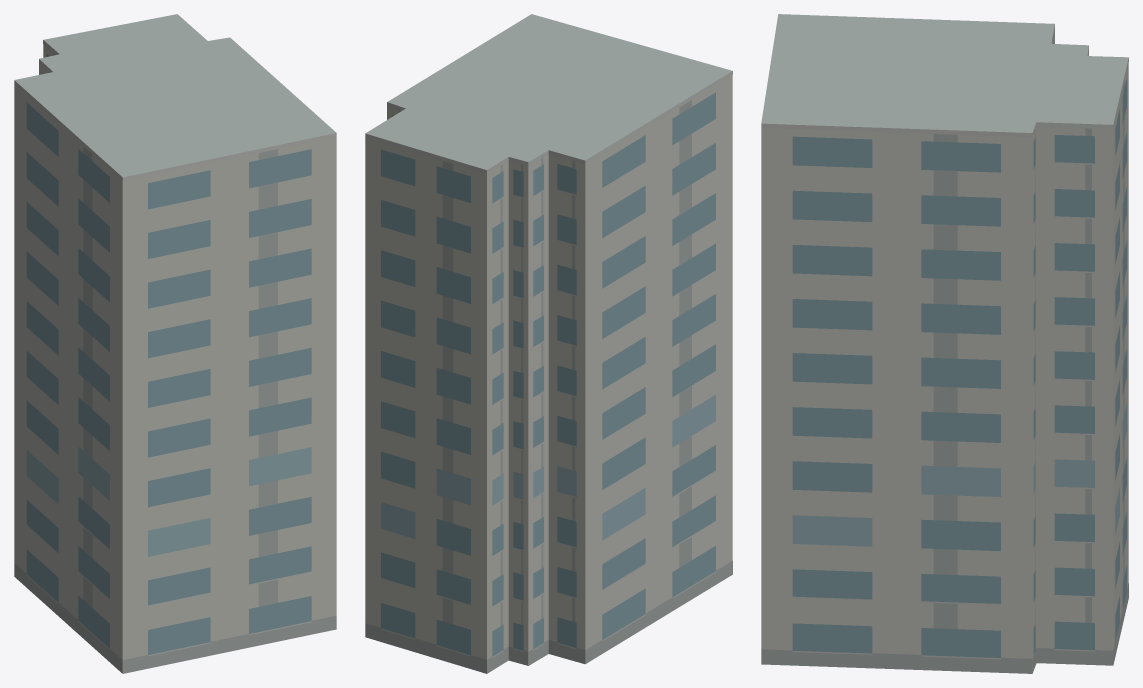
The model's file is residential-3093b765-9f2d-46da-a5c5-51ac252da54d.glb.
3 views of the same model, side by side, from view 1: azimuth 30°, elevation 25°; view 2: azimuth 150°, elevation 25°; view 3: azimuth 270°, elevation 25° (orthographic). The views are drawn at different scales.
Visible parts, largest first — view 1: residential-3093b765-9f2d-46da-a5c5-51ac252da54d.tmp; view 2: residential-3093b765-9f2d-46da-a5c5-51ac252da54d.tmp; view 3: residential-3093b765-9f2d-46da-a5c5-51ac252da54d.tmp.
Boxes of the visible parts, x1=… form: residential-3093b765-9f2d-46da-a5c5-51ac252da54d.tmp: x1=14, y1=14, x2=336, y2=673; residential-3093b765-9f2d-46da-a5c5-51ac252da54d.tmp: x1=365, y1=14, x2=732, y2=673; residential-3093b765-9f2d-46da-a5c5-51ac252da54d.tmp: x1=761, y1=14, x2=1128, y2=673.
Bounding box in the file's own units: 14.17 × 30 × 18.49.
